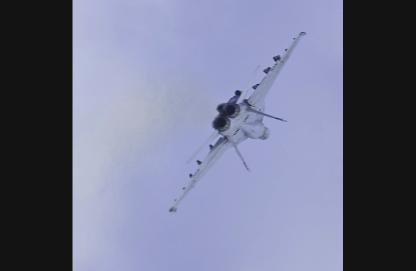F15: (170, 30, 307, 211)
